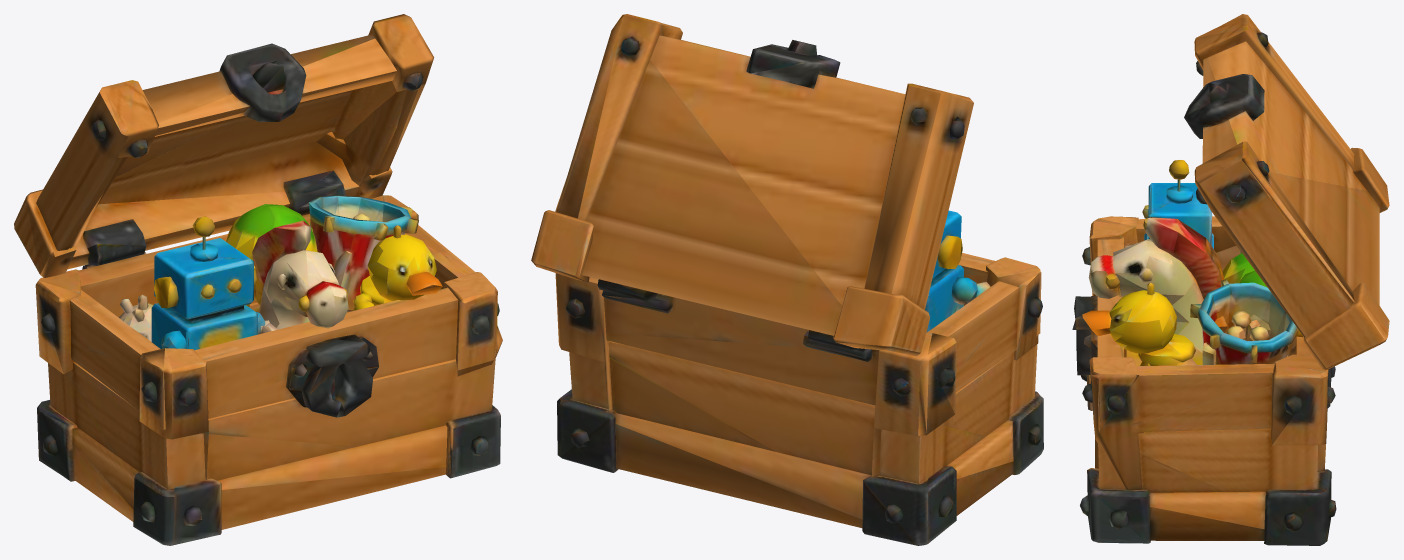
The model's file is trade_chest.glb.
The picture shows the model from 3 angles, left to right: view 1: azimuth 30°, elevation 25°; view 2: azimuth 150°, elevation 25°; view 3: azimuth 270°, elevation 25°; orthographic projection. The views are drawn at different scales.
Size of the model in its own units: 0.9824 by 1 by 0.7578.
Materials: 1 (1 with a texture image).
